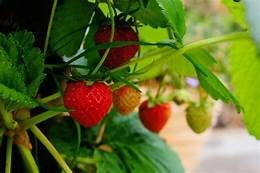Fresa: (61, 70, 115, 131)
